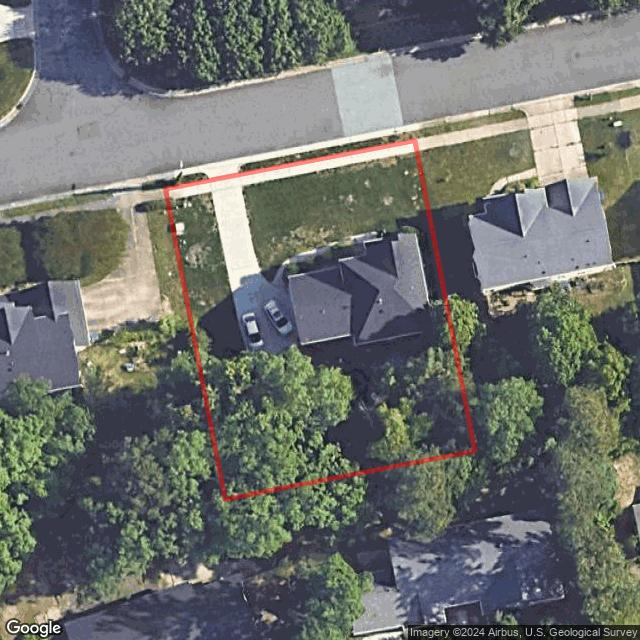Driveway: (207, 175, 299, 361)
Extra-Driveway: (202, 163, 243, 180)
Extra-Lawn: (238, 131, 416, 176), (163, 173, 210, 190)
House: (287, 232, 436, 351)
Lawn: (166, 141, 475, 499)
Other: (174, 221, 186, 236)
Sidewalk: (242, 141, 418, 187), (273, 232, 378, 285), (167, 181, 211, 200)
